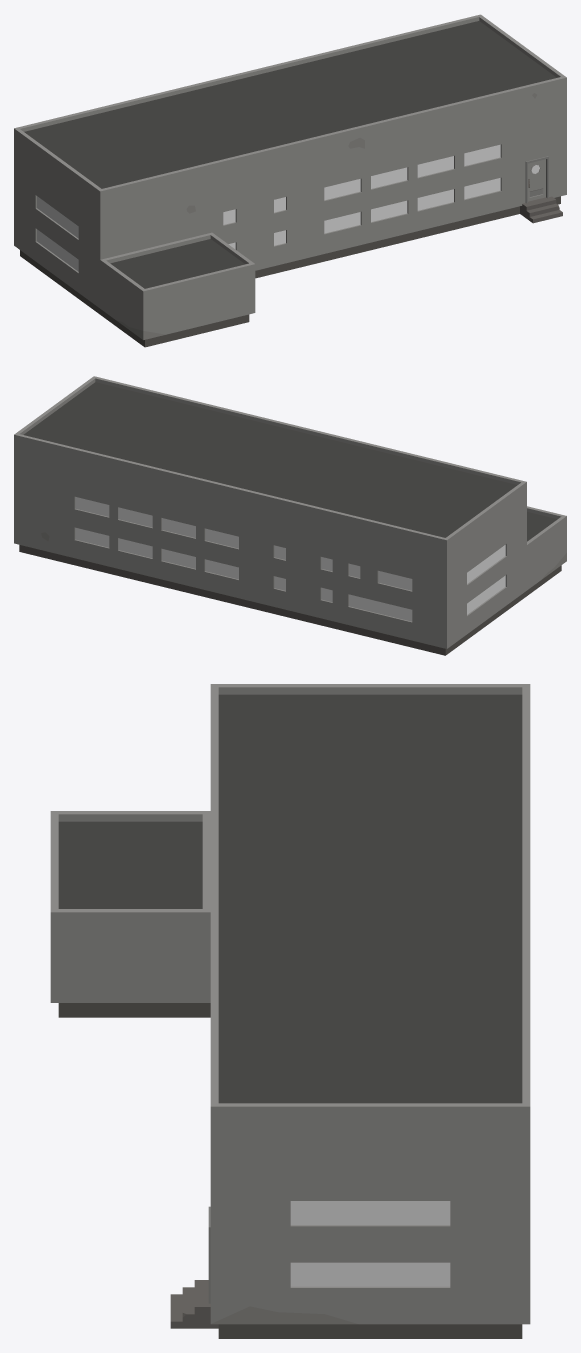
Rendered from SM_Bldg_City_Industrial_07.fbx.
3 renders of one model, top to bottom at view 1: azimuth 30°, elevation 25°; view 2: azimuth 150°, elevation 25°; view 3: azimuth 270°, elevation 25°, orthographic. The views are drawn at different scales.
Visible parts, largest first — view 1: SM_Bldg_City_Industrial_07, SM_Bldg_City_Industrial_07_Door; view 2: SM_Bldg_City_Industrial_07; view 3: SM_Bldg_City_Industrial_07.
Boxes of the visible parts, bbox=[...] form: SM_Bldg_City_Industrial_07: bbox=[14, 14, 566, 347]; SM_Bldg_City_Industrial_07_Door: bbox=[528, 159, 545, 201]; SM_Bldg_City_Industrial_07: bbox=[14, 376, 566, 655]; SM_Bldg_City_Industrial_07: bbox=[50, 684, 530, 1338].
Bounding box in the file's own units: 2500 × 650 × 1200.
